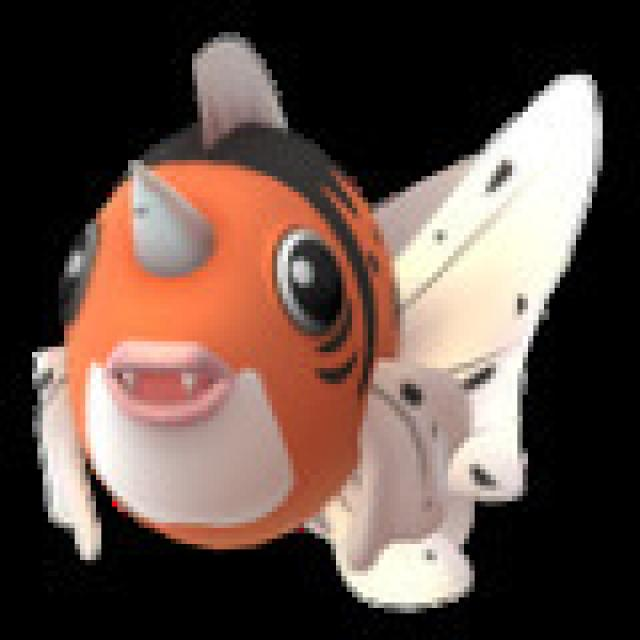Seaking: (51, 38, 520, 566)
